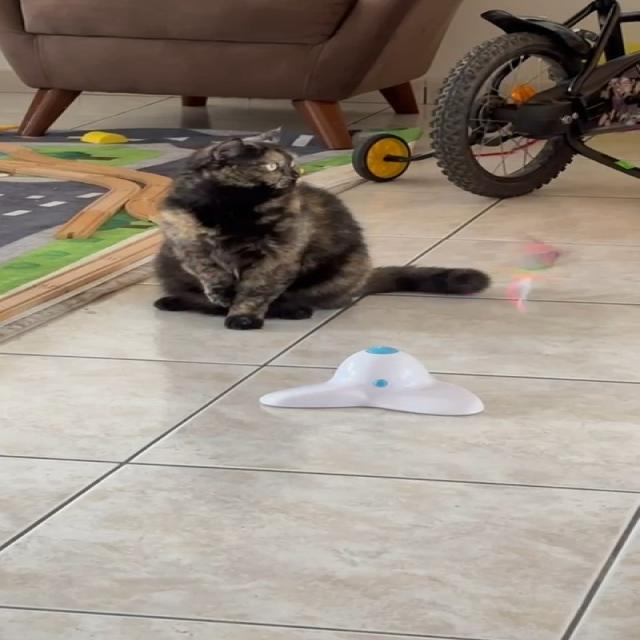authorized: (150, 125, 490, 330)
